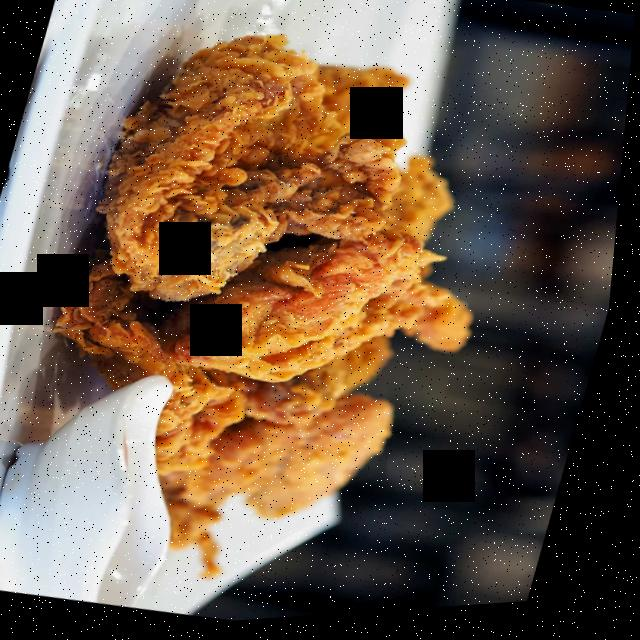Frango: (0, 0, 558, 613)
